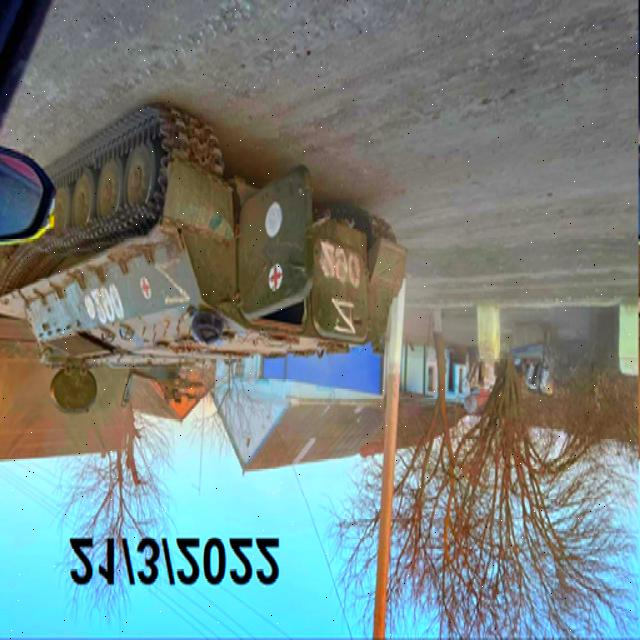APC-IFV: (0, 93, 409, 391)
